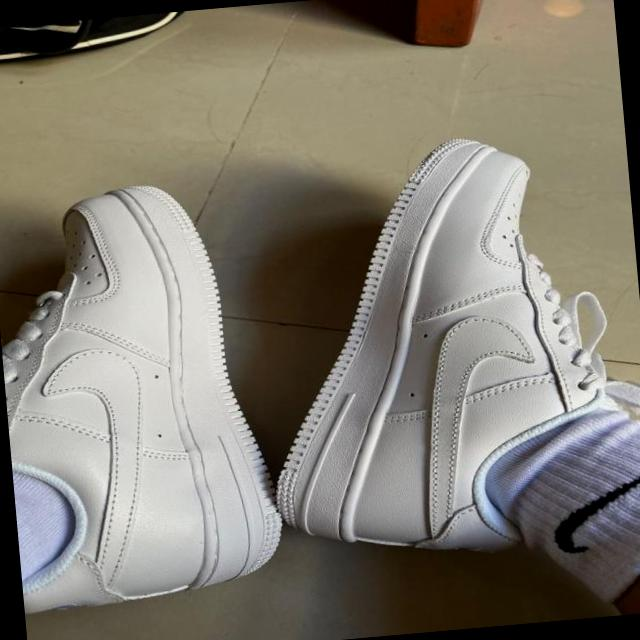nike_original_airforce: (244, 126, 635, 574), (0, 171, 289, 620)
